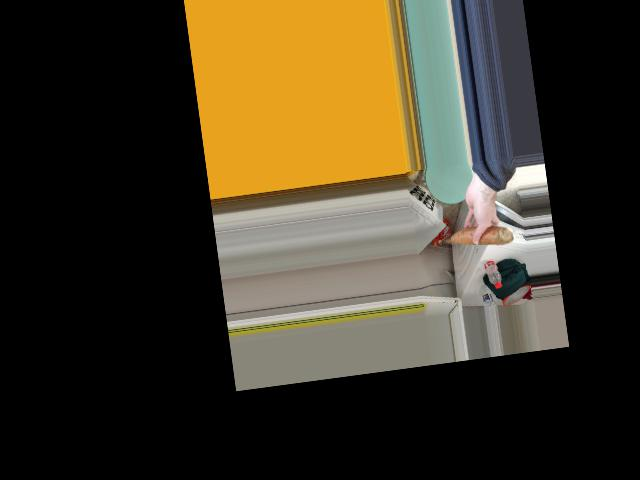sweet_potato: (450, 223, 504, 245)
